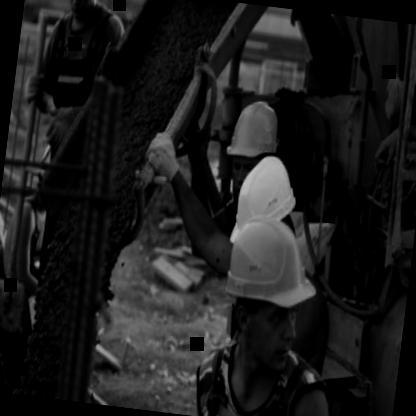helmet: (203, 207, 324, 384), (225, 154, 300, 263), (222, 94, 286, 192), (54, 0, 101, 22)
